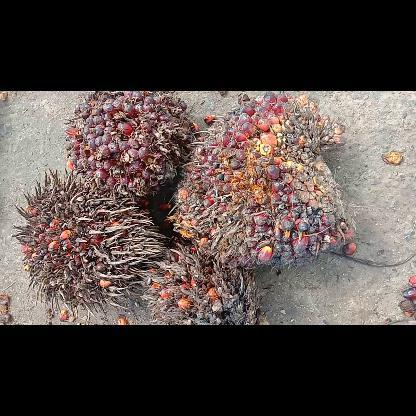TBS masak: (168, 91, 350, 267), (65, 91, 197, 201)
Terlalu masak: (11, 169, 164, 315), (142, 242, 260, 324)
